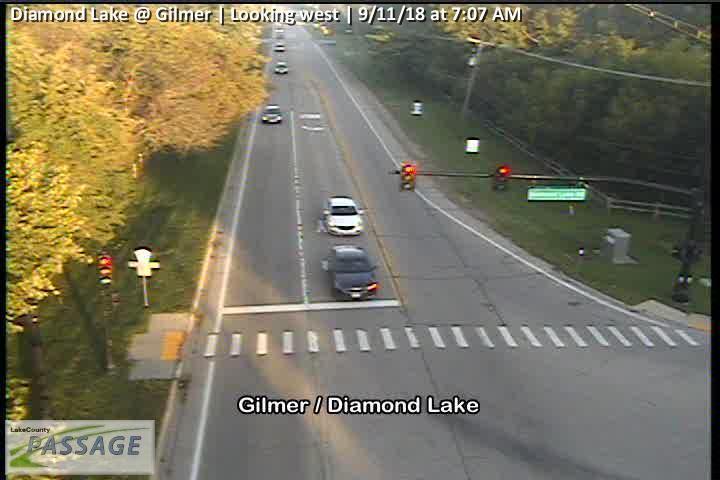Sedan: (326, 245, 378, 301), (321, 196, 364, 236), (260, 105, 282, 124), (275, 61, 289, 74), (272, 41, 286, 51)
